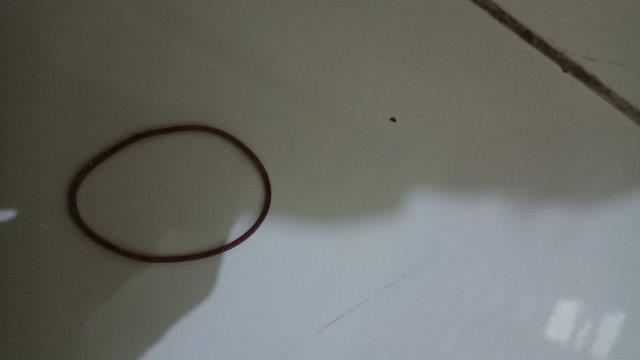karet: (68, 126, 272, 263)
